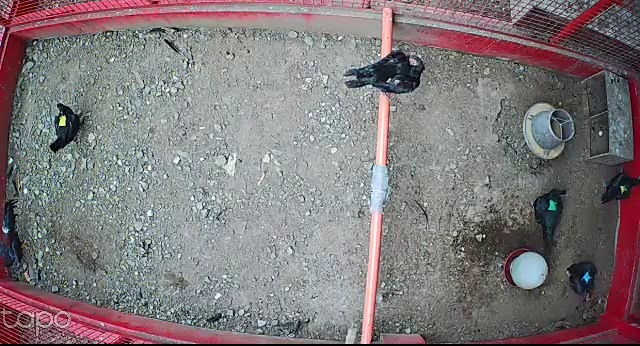Chicken: (339, 48, 425, 96), (532, 188, 572, 254), (46, 98, 90, 154), (561, 258, 599, 306), (599, 170, 640, 214)
Drinker: (502, 248, 552, 293)
Feeder: (522, 101, 576, 161)
Saddle_Color_Blue: (582, 271, 592, 285)
Saddle_Color_Yellow: (58, 113, 68, 128)
Saddle_Color_YellowGreen: (620, 184, 628, 196)
